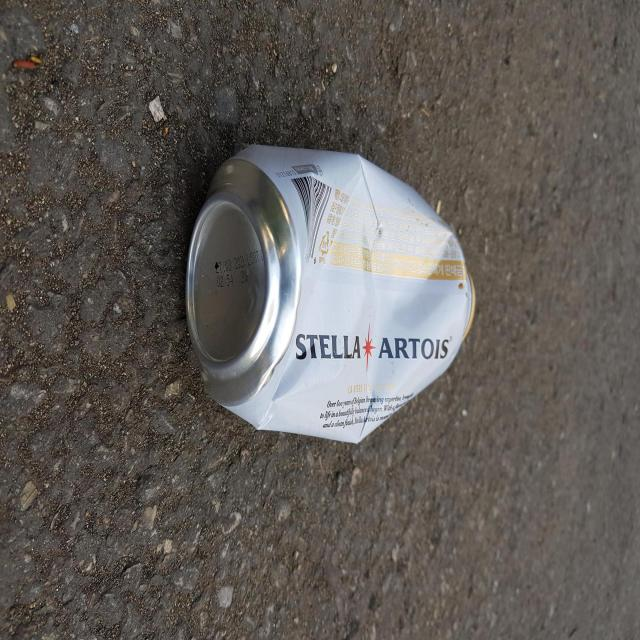can: (186, 144, 475, 443)
